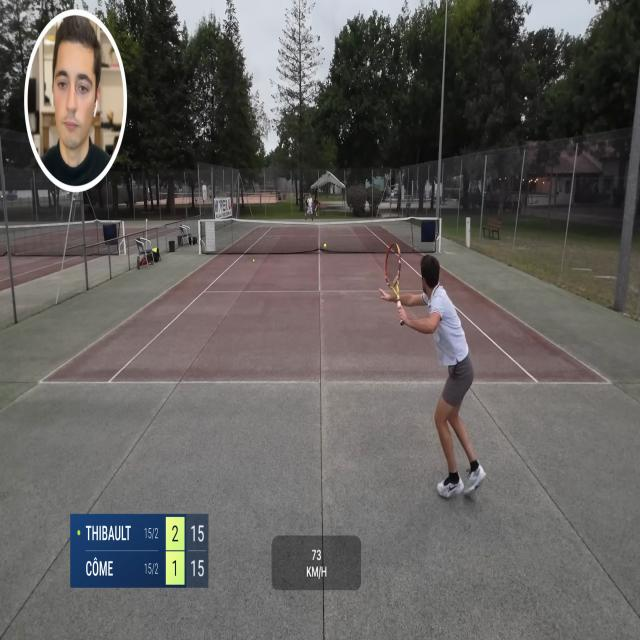ball: (322, 242, 328, 248), (252, 258, 255, 263)
